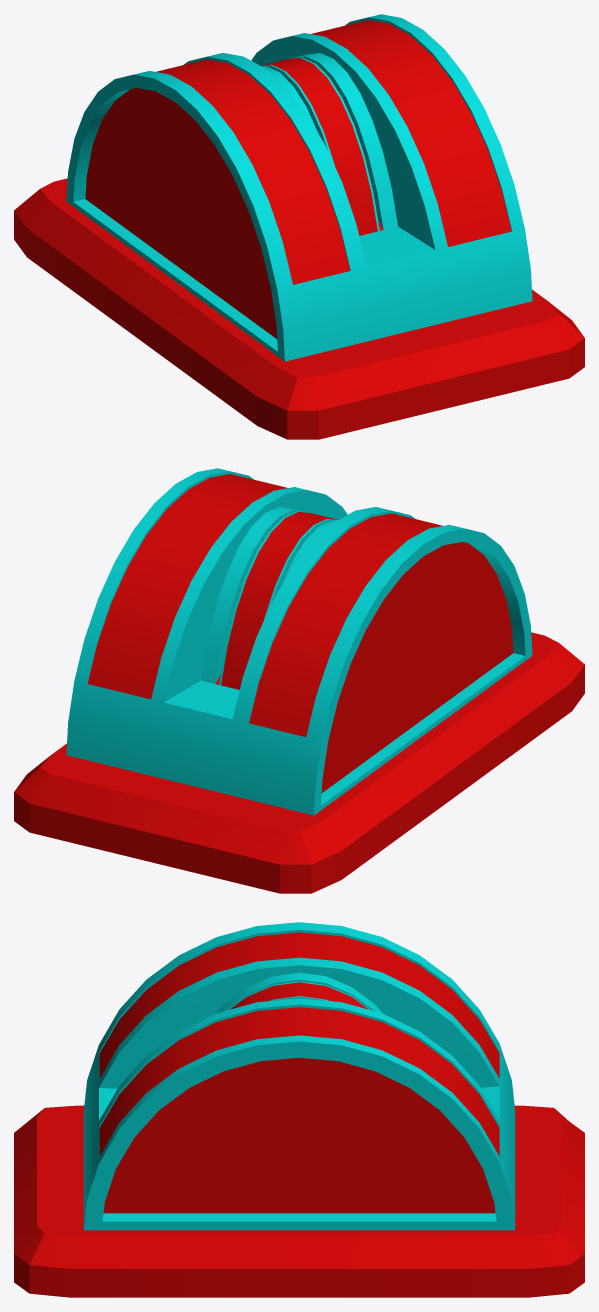
Rendered from SM_leverBase.fbx.
3 renders of one model, top to bottom at view 1: azimuth 30°, elevation 25°; view 2: azimuth 150°, elevation 25°; view 3: azimuth 270°, elevation 25°, orthographic.
Parts seen in each view (by area): view 1: Cylinder.003; view 2: Cylinder.003; view 3: Cylinder.003.
Part boxes in pixels (x1,y1,x2,y2): Cylinder.003: [14, 14, 584, 439]; Cylinder.003: [14, 468, 584, 893]; Cylinder.003: [14, 922, 584, 1297].
Bounding box in the file's own units: 38.73 × 28.62 × 61.66.
